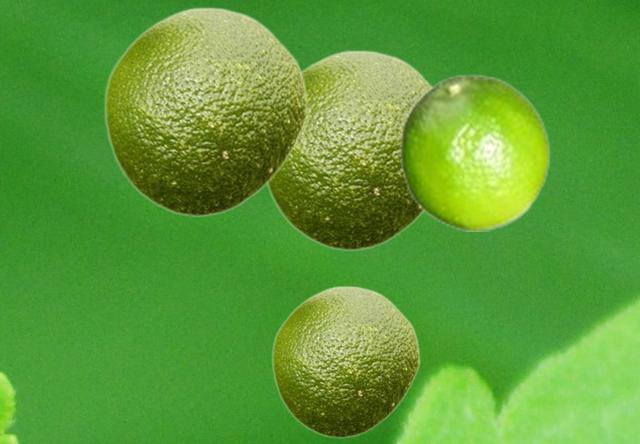calamansi: (103, 6, 307, 217), (267, 49, 432, 251), (399, 73, 550, 230), (271, 285, 419, 438)
